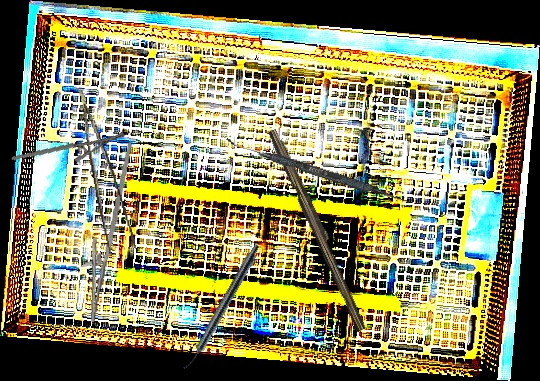Handpiece: (181, 241, 262, 374)
Needle Holder: (75, 140, 134, 324), (10, 118, 127, 174)
Scalpel Handle: (264, 126, 373, 333)
Spatula Surgical: (223, 138, 412, 205)
Tissue Forceps: (78, 85, 138, 262)
